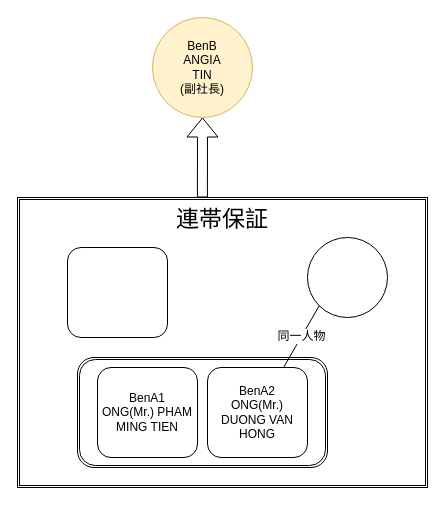
This 445x505 diagram has some shape labels left out. Each missing label, with the centre of its shape:
BenC GIA LINH (DUONG VAN HONG): (347,277)
BenD BA(Miss) NGUYEN THI MAI: (117,292)
